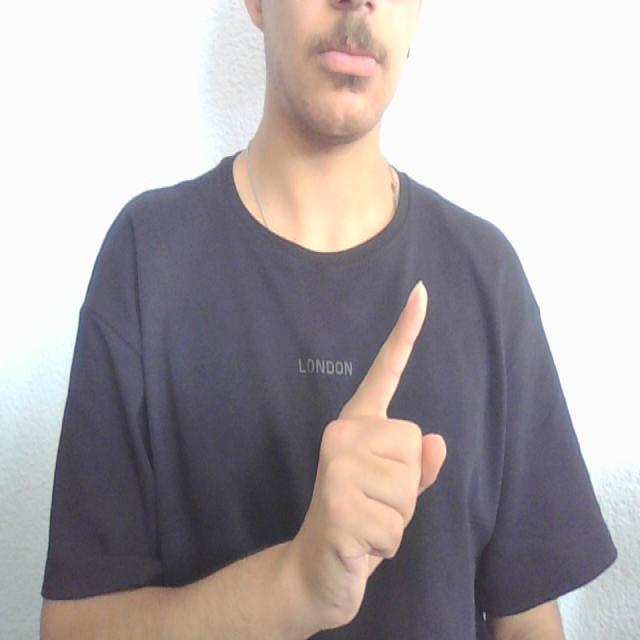Hayir: (295, 260, 465, 640)
